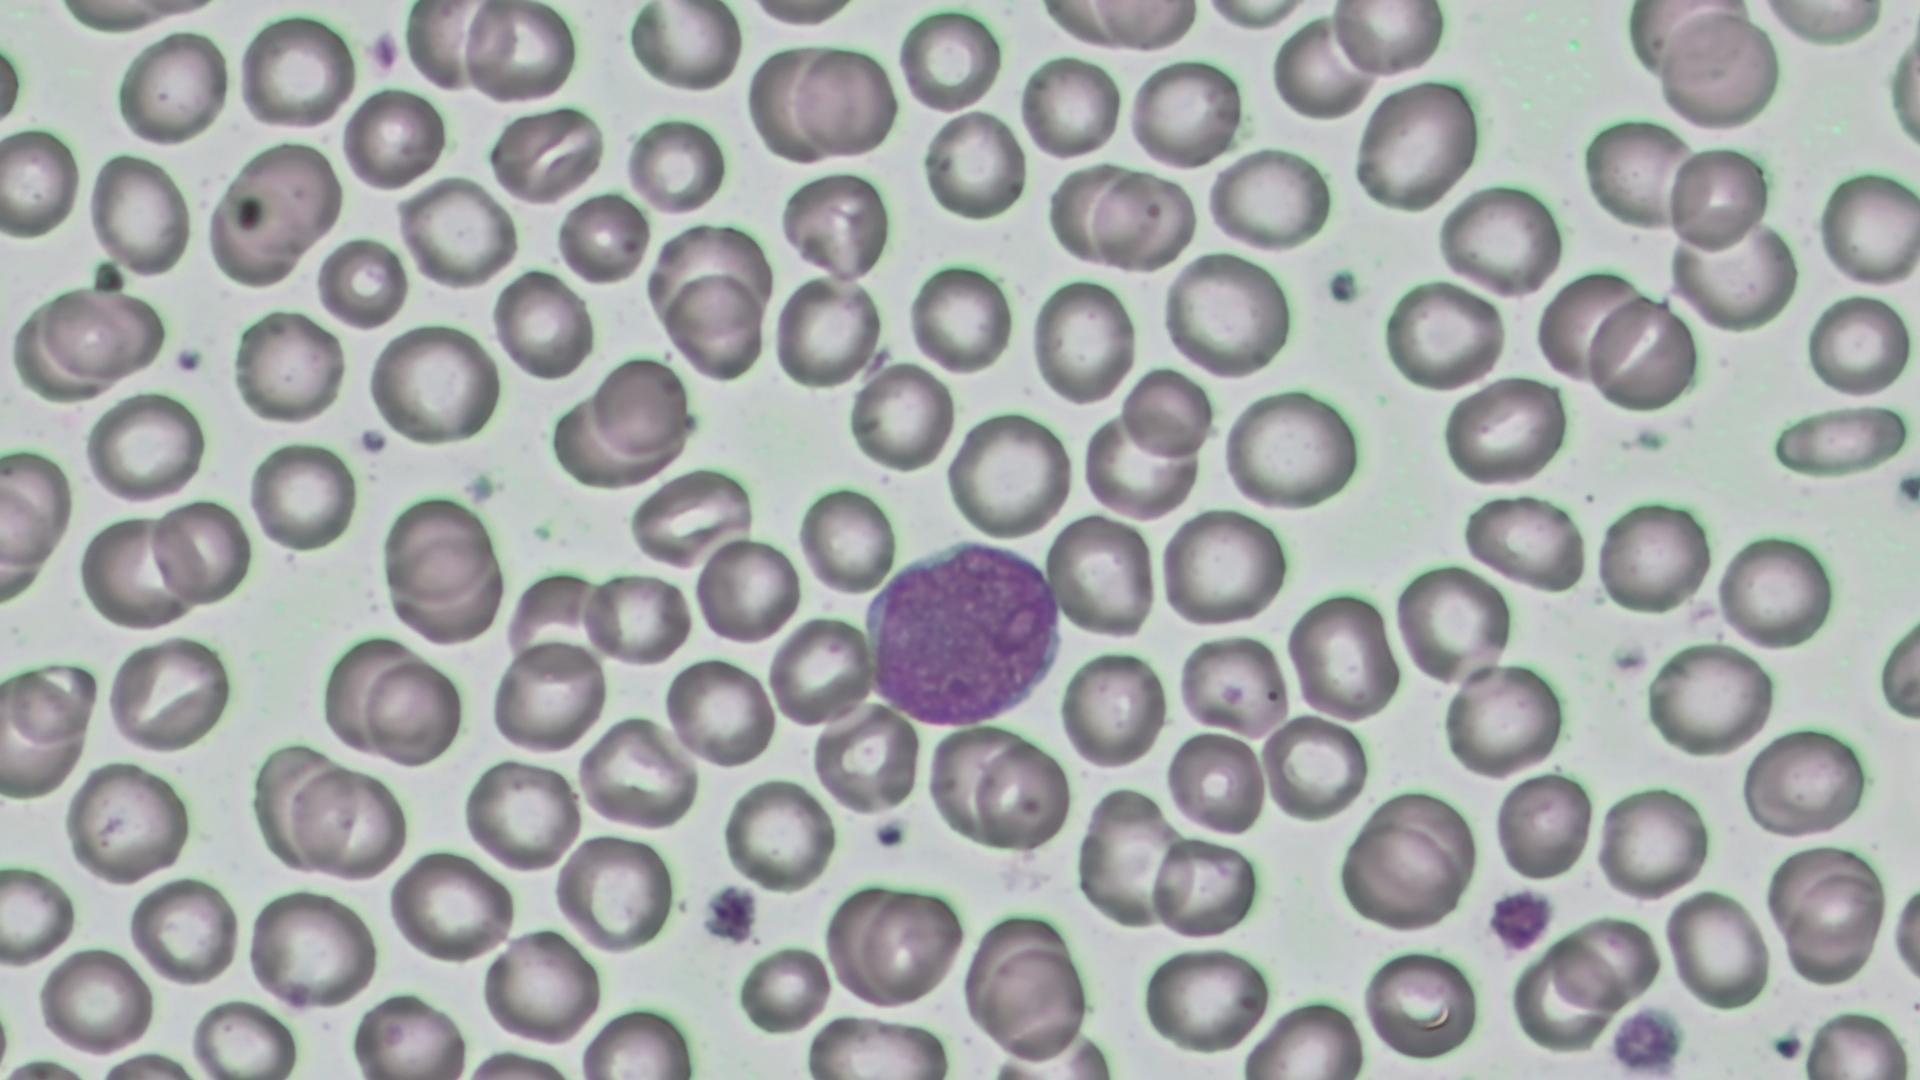Platelets: (1607, 1004, 1689, 1077), (1890, 468, 1920, 517), (1623, 421, 1668, 454)
RBC: (1218, 385, 1365, 514), (365, 318, 502, 450), (243, 884, 382, 1011), (944, 407, 1077, 541), (1350, 76, 1480, 214), (1160, 251, 1296, 378), (102, 632, 233, 758), (1158, 506, 1290, 630), (63, 760, 193, 885), (1665, 214, 1797, 336), (1391, 556, 1514, 688), (1073, 785, 1183, 931), (1284, 587, 1402, 723), (477, 923, 604, 1048), (74, 508, 199, 634), (1656, 8, 1782, 133), (553, 829, 676, 956), (1642, 640, 1774, 758), (1714, 529, 1838, 654), (396, 171, 521, 293), (236, 9, 357, 135), (113, 24, 233, 150), (1141, 942, 1271, 1058), (1044, 510, 1158, 644), (1584, 290, 1701, 418), (1437, 375, 1569, 488), (649, 220, 771, 342), (1077, 405, 1203, 524), (386, 849, 516, 964), (1204, 142, 1336, 255), (1580, 112, 1700, 235), (229, 305, 349, 427), (1440, 661, 1563, 781), (1593, 495, 1713, 617), (83, 388, 208, 505), (1437, 182, 1564, 298), (1746, 724, 1869, 843), (460, 754, 583, 873), (1124, 54, 1246, 173), (1382, 276, 1506, 393), (1596, 781, 1713, 905), (86, 146, 193, 282), (1056, 644, 1170, 771), (1030, 274, 1138, 407), (1337, 819, 1466, 930), (1361, 944, 1481, 1063), (1774, 858, 1888, 982), (227, 136, 345, 255), (36, 942, 157, 1058), (576, 713, 695, 831), (662, 651, 779, 770), (247, 434, 360, 556), (488, 637, 605, 754), (723, 774, 837, 894), (1174, 628, 1292, 742), (978, 943, 1092, 1063), (1534, 266, 1646, 388), (924, 723, 1034, 847), (1664, 886, 1772, 1011), (127, 872, 243, 988), (290, 764, 406, 880), (778, 166, 893, 284), (625, 464, 754, 568), (771, 272, 884, 392), (1460, 491, 1586, 596), (847, 356, 957, 476), (40, 280, 164, 386), (1815, 165, 1920, 290), (810, 699, 922, 816), (856, 882, 964, 1004), (1764, 397, 1917, 483), (378, 492, 496, 603), (1509, 938, 1619, 1055), (1803, 287, 1916, 401), (1015, 49, 1126, 165), (791, 41, 899, 160), (489, 264, 597, 382), (1146, 832, 1262, 942), (766, 613, 876, 729), (316, 632, 418, 756), (919, 105, 1027, 222), (0, 662, 92, 796), (339, 82, 448, 194), (463, 0, 579, 105), (895, 5, 1004, 117), (1162, 724, 1269, 837), (1668, 140, 1774, 255), (1491, 767, 1596, 884), (1259, 713, 1367, 824), (907, 260, 1013, 373), (795, 481, 898, 597), (487, 104, 604, 206), (661, 268, 767, 378), (694, 534, 799, 645), (975, 736, 1072, 855), (1269, 15, 1375, 123), (363, 657, 464, 770), (348, 988, 473, 1079), (152, 495, 255, 605), (1238, 992, 1369, 1079), (580, 567, 694, 666), (796, 1010, 961, 1077), (624, 3, 744, 94), (1091, 167, 1196, 270), (1553, 913, 1662, 1013), (624, 113, 728, 214), (592, 352, 690, 458), (401, 1, 504, 98), (3, 120, 80, 245), (1325, 1, 1448, 80), (1120, 364, 1215, 464), (313, 233, 407, 331), (555, 190, 649, 286), (1, 858, 80, 969), (1797, 1004, 1912, 1079), (0, 458, 61, 596), (1880, 7, 1917, 175), (1888, 865, 1917, 1006), (742, 0, 862, 32), (1196, 0, 1312, 32)
WBC: (862, 537, 1069, 731)
